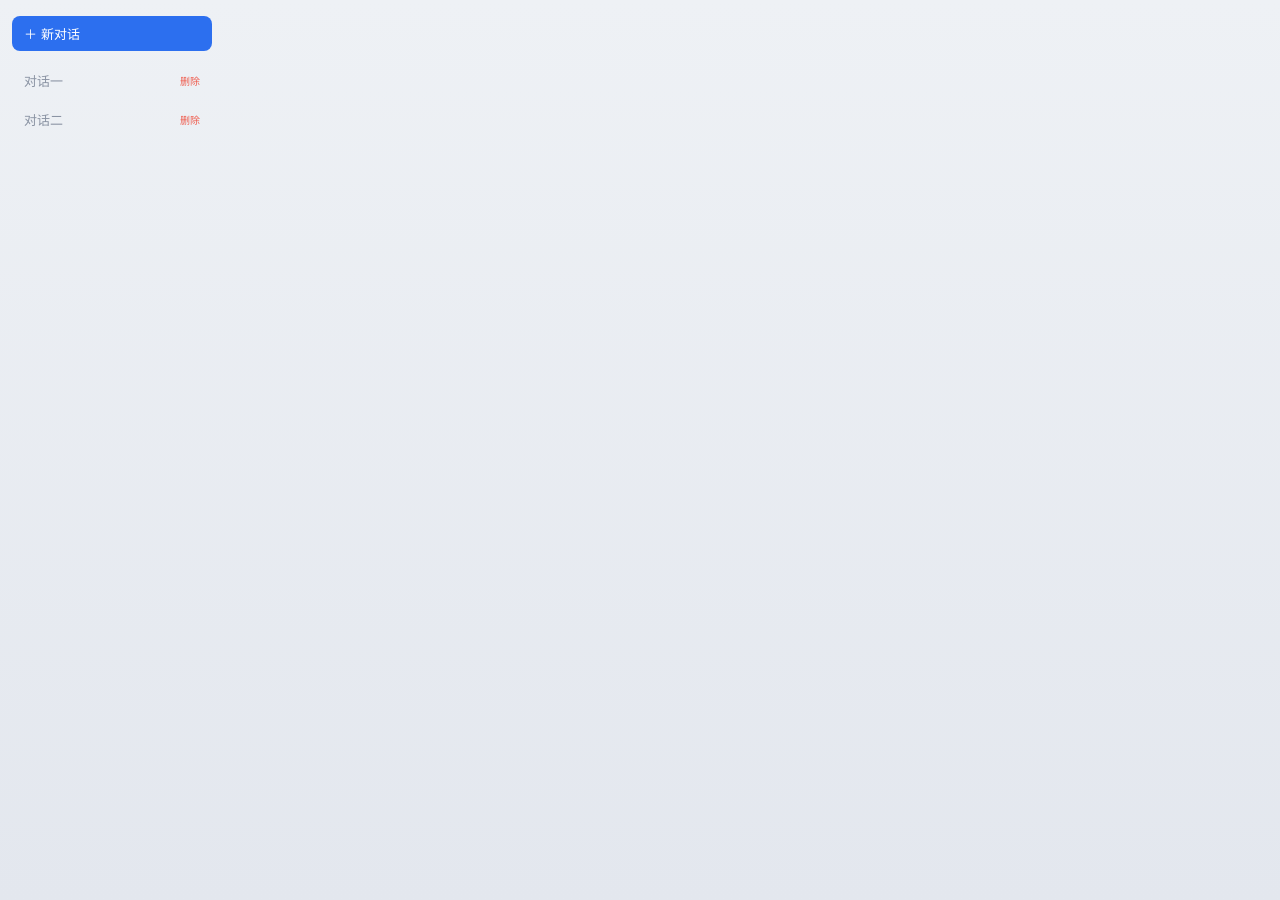
Test case: ChatView › still shows the close confirmation after switching to a different conversation, since it reads the shared busy state rather than local pendingQuestion
This screenshot has width=1280, height=900.
Click the button "对话一".
click(94, 80)  # box [12,63,176,98]
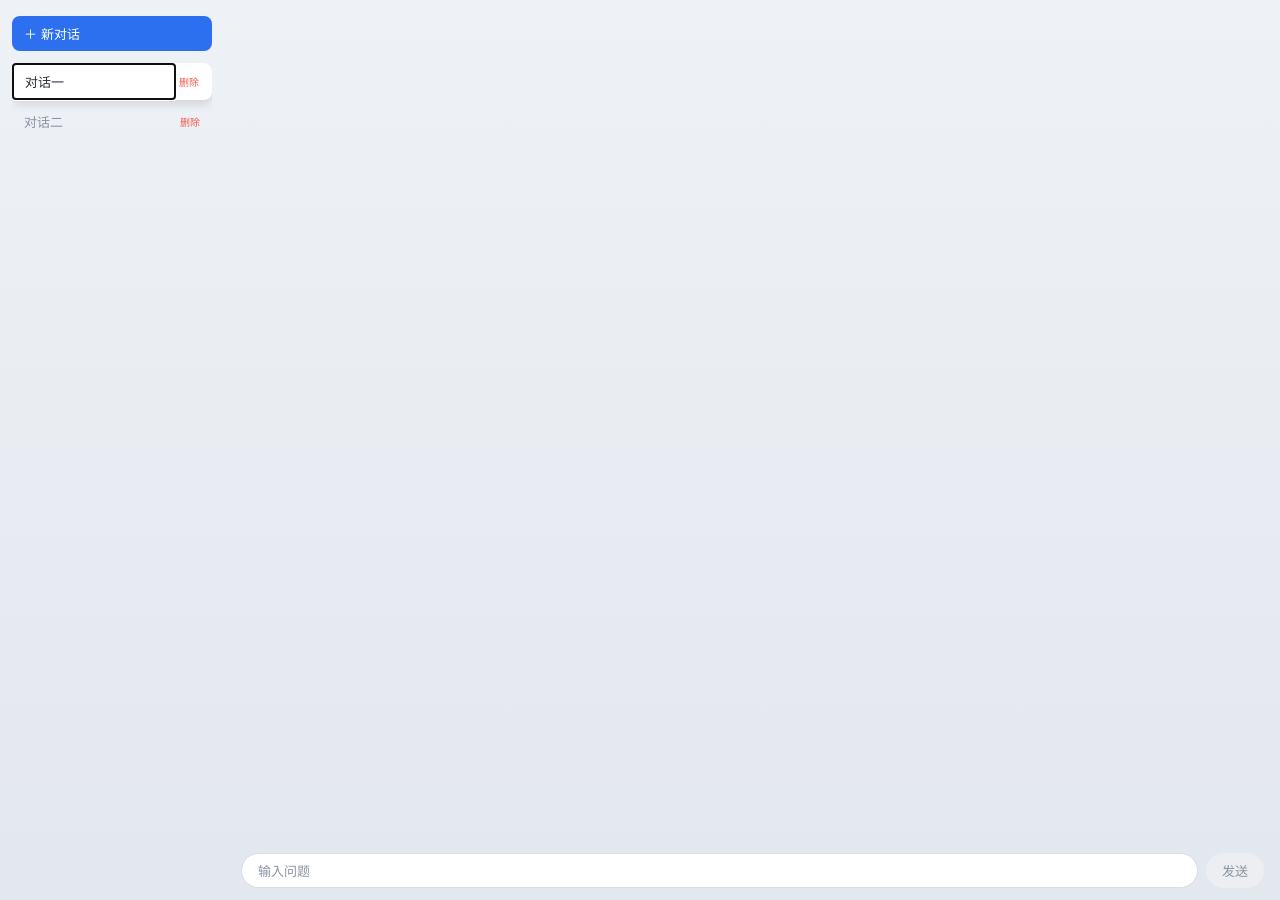
Expected: the field with placeholder "输入问题" is shown, [241,853,1198,888]
Click the button "对话二".
click(94, 122)  # box [12,104,176,139]
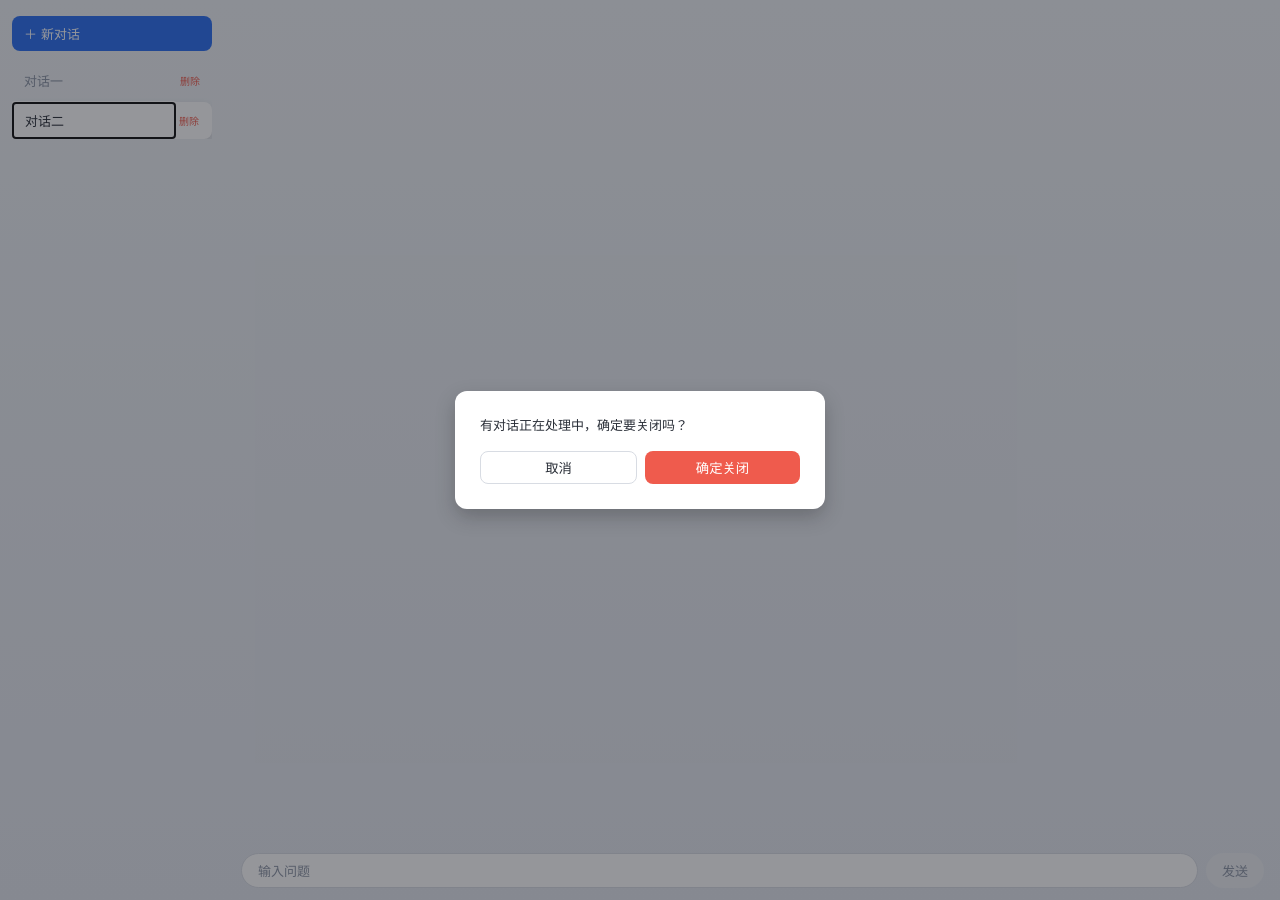
Expected: the field with placeholder "输入问题" is shown, [241,853,1198,888]
Expected: the text "有对话正在处理中，确定要关闭吗？" is shown, [480,417,688,433]
